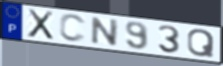3: (157, 25, 181, 55)
9: (124, 21, 150, 51)
C: (58, 13, 88, 44)
N: (89, 16, 120, 47)
Q: (186, 28, 216, 59)
X: (26, 8, 56, 41)
